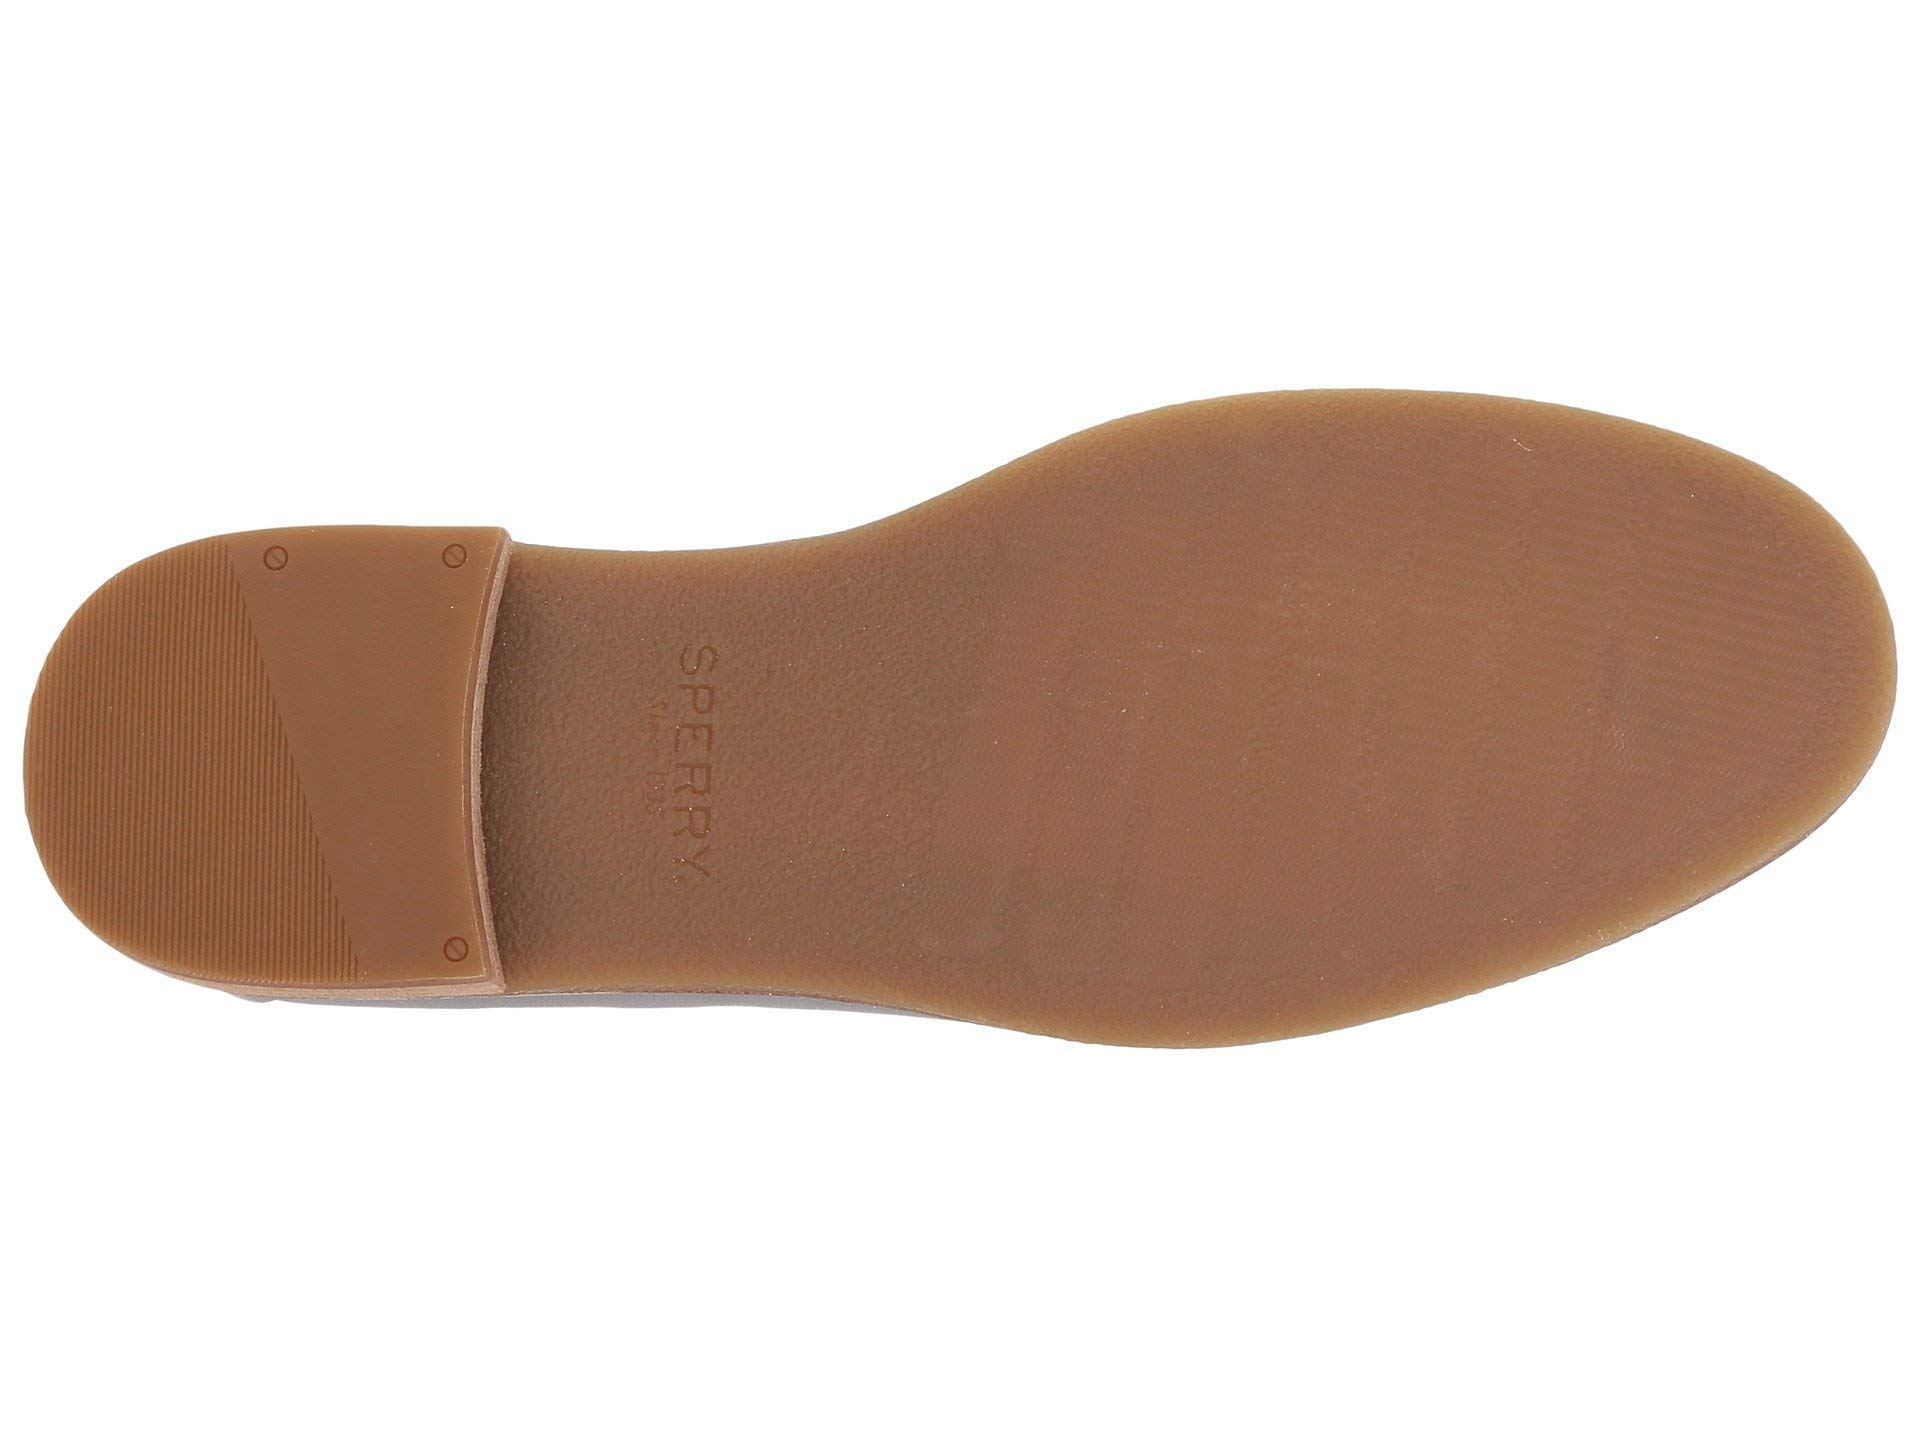line: (42, 681, 269, 924)
text: (549, 620, 880, 905)
